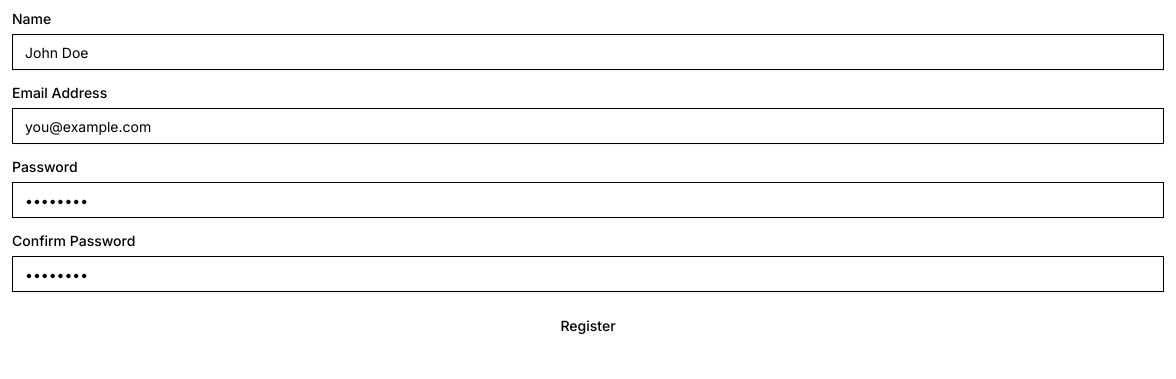
it: RegisterForm › validates password match
The width and height of the screenshot is (1176, 379).
Type "John" into the field with placeholder "John Doe". click: point(588, 52)
box: [12, 34, 1164, 70]
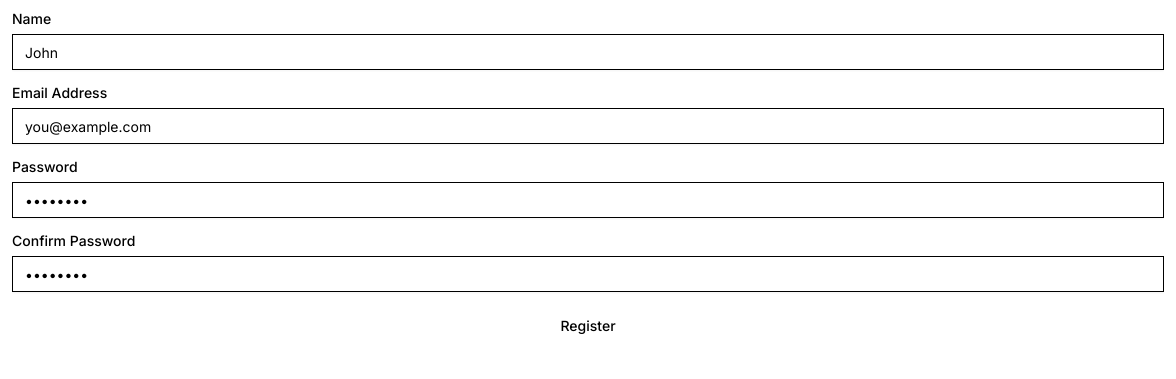
Type "test@example.com" into the field with placeholder "you@example.com". click: point(588, 126)
box: [12, 108, 1164, 144]
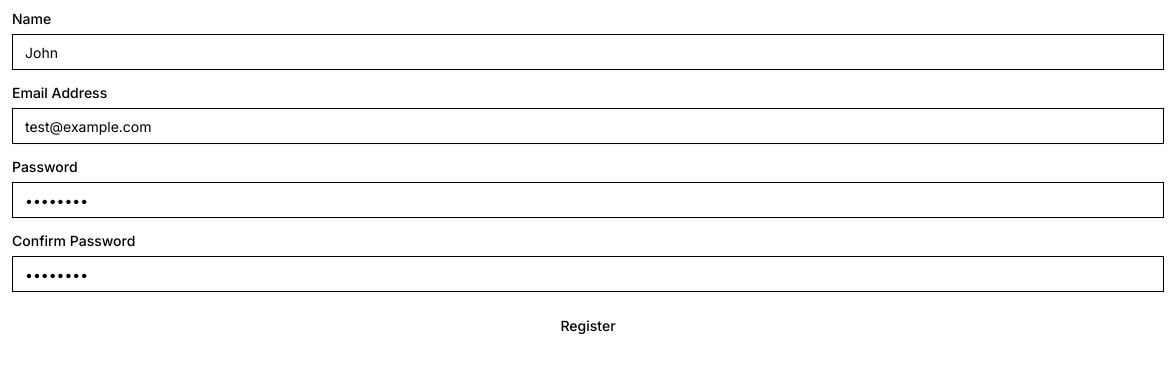
Type "password123" into the 1st password field with placeholder "••••••••". click: point(588, 200)
box: [12, 182, 1164, 218]
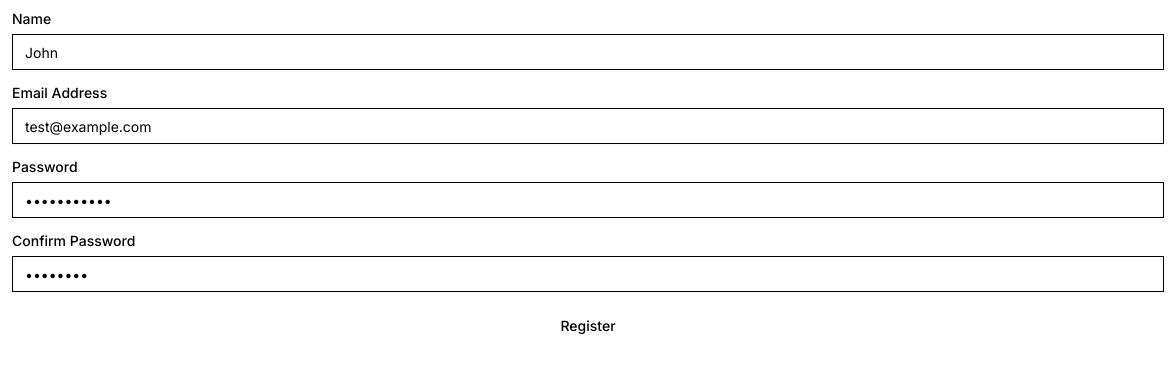
Type "different123" into the password field with placeholder "••••••••". click: point(588, 274)
box: [12, 256, 1164, 292]
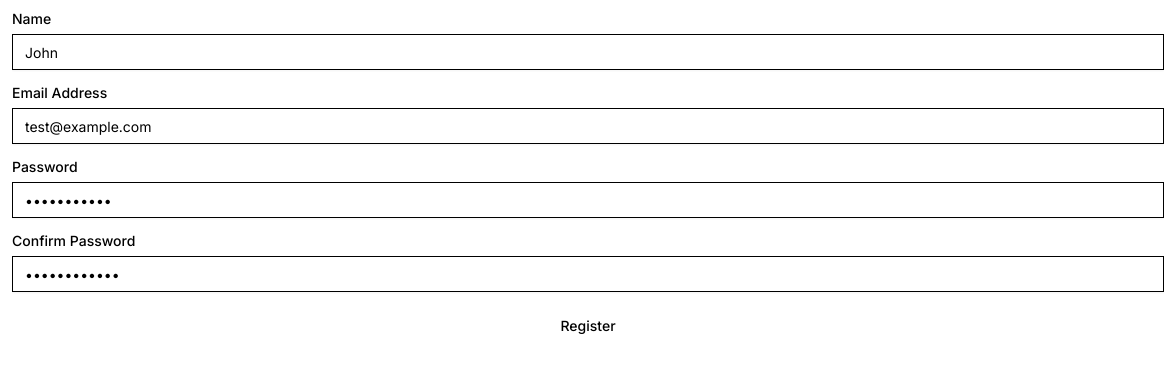
Click the button "Register". click: point(588, 326)
box: [12, 308, 1164, 344]
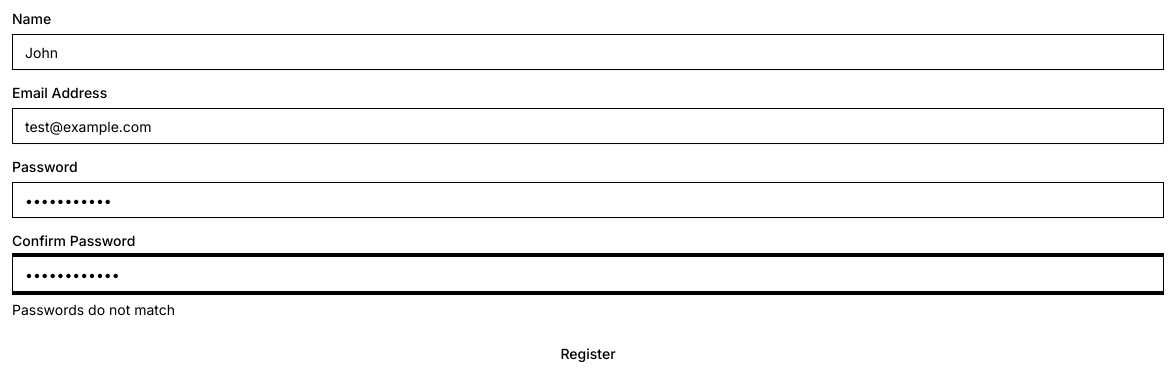
expect the text "Passwords do not match" is shown: met, box [12, 301, 175, 318]
